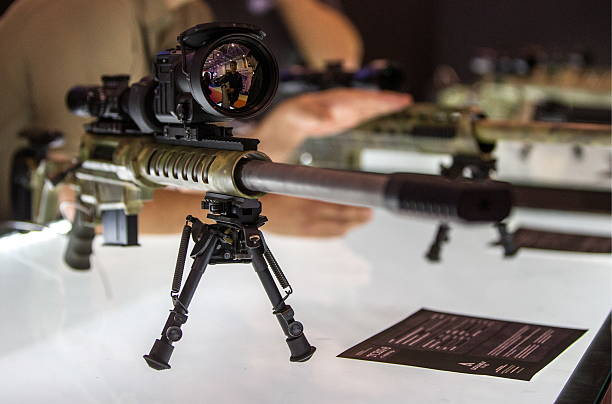rifle: (22, 16, 533, 389)
